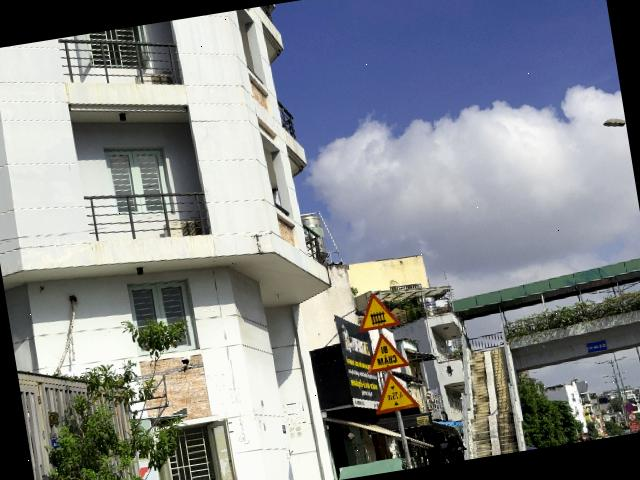chieu-cao-tinh-khong-thuc-te: (370, 368, 420, 415)
di-cham: (362, 329, 409, 374)
noi-giao-nhau-voi-duong-sat-co-rao-chan: (353, 289, 401, 333)
